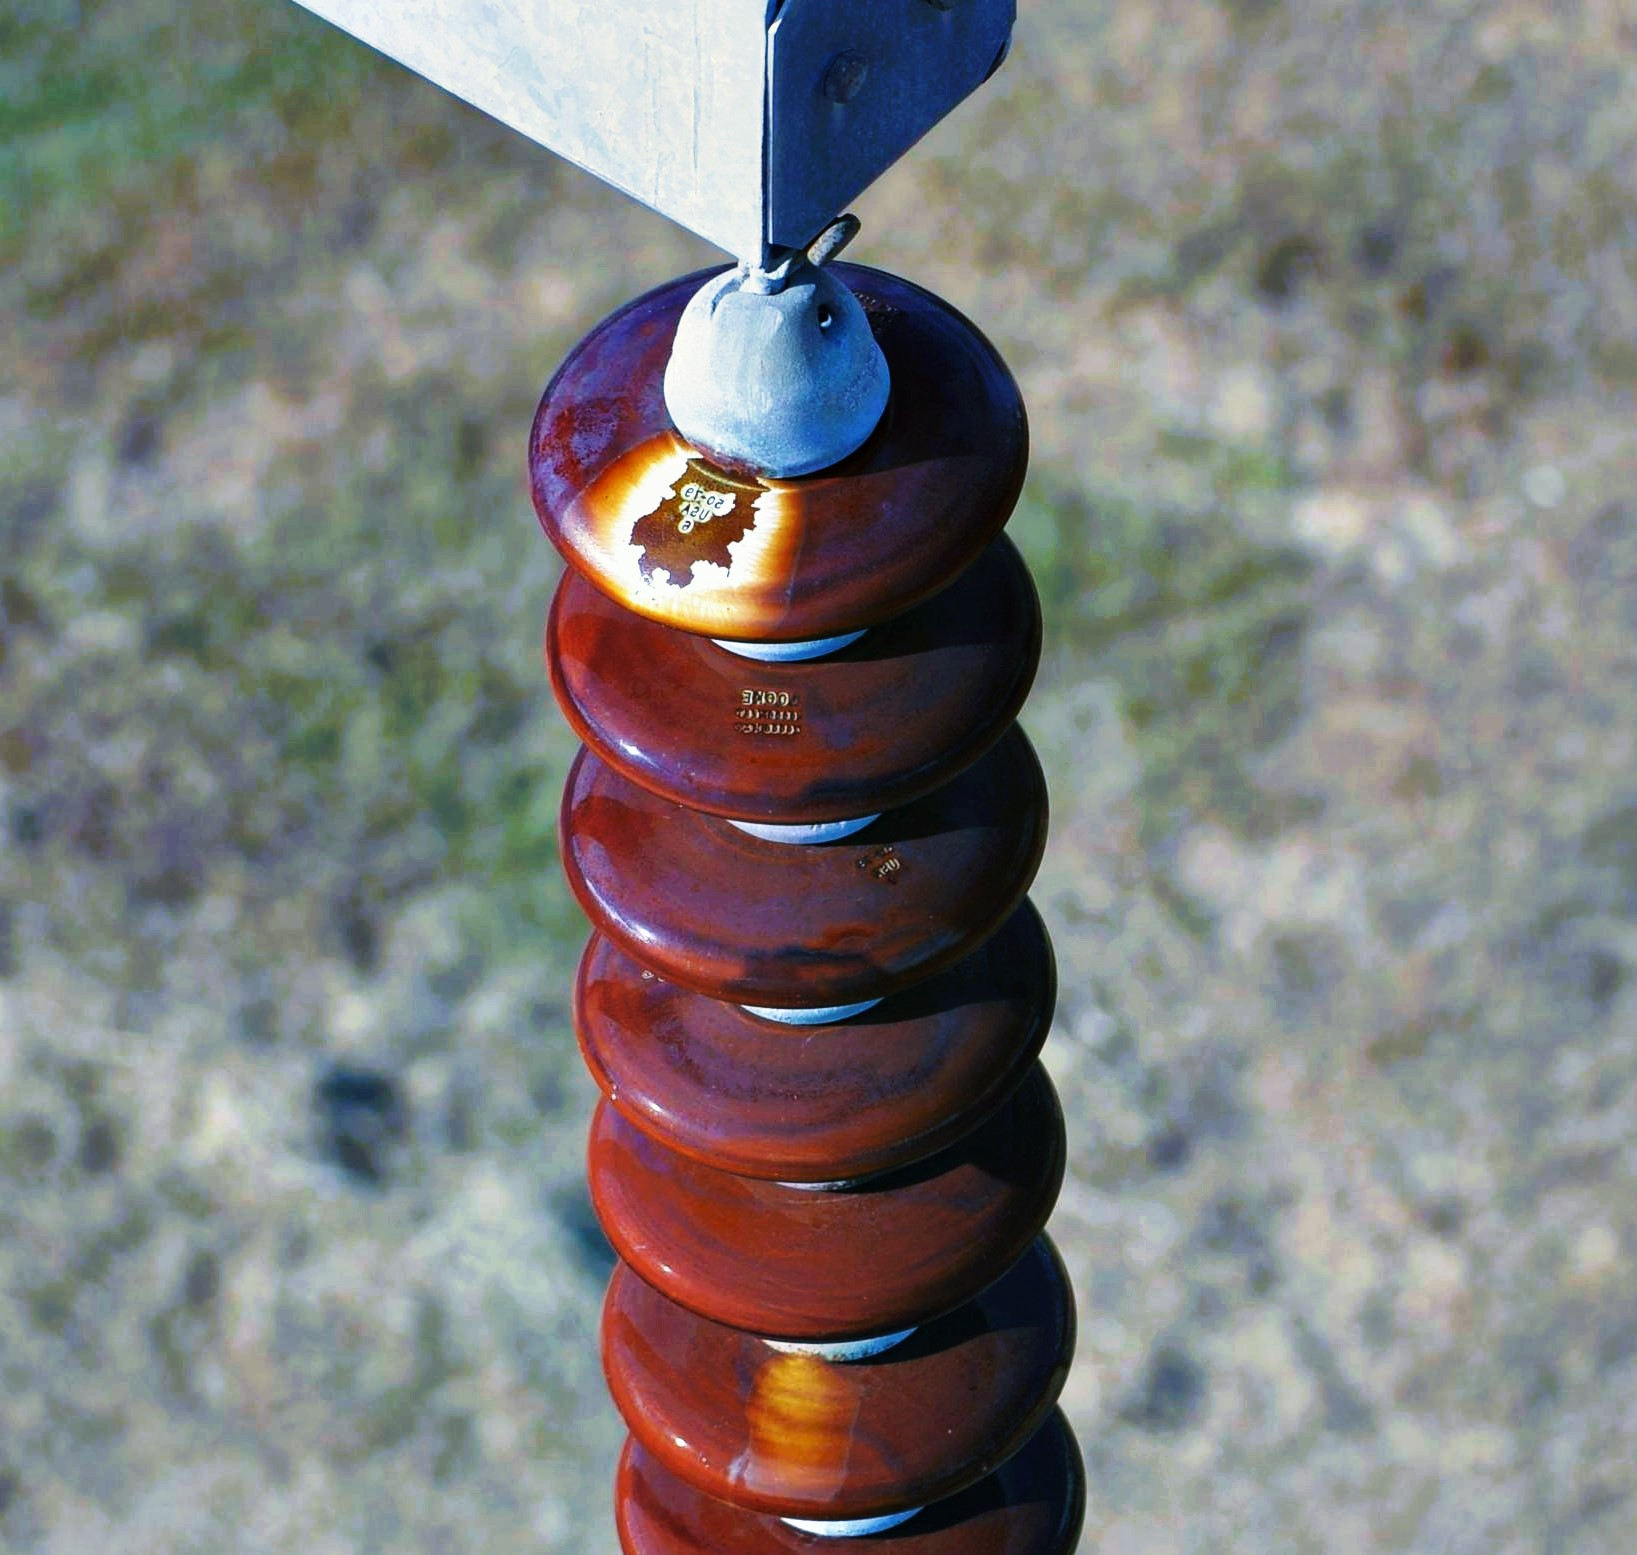Insulator flashover: (471, 238, 1061, 658)
